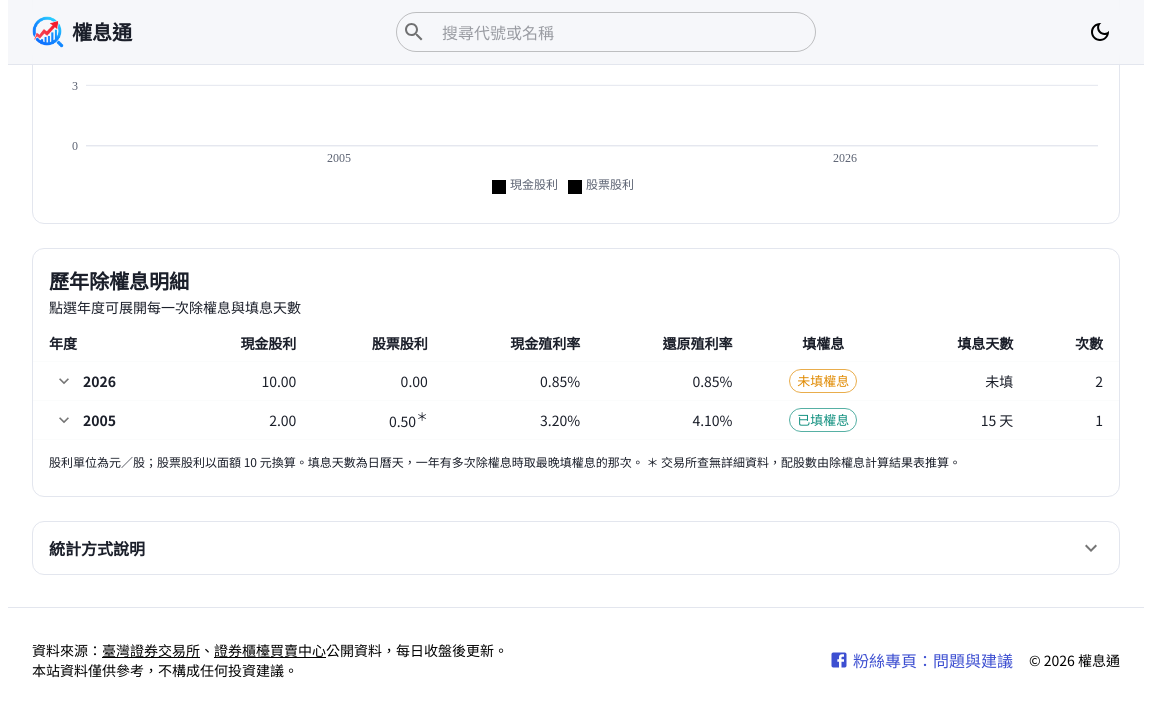
Test: StockPage › expands a year to show each ex-date
(page scrolled)
Click the button named "展開2026 年的 2 次除權息" at (64, 381), box [49,366,79,396]
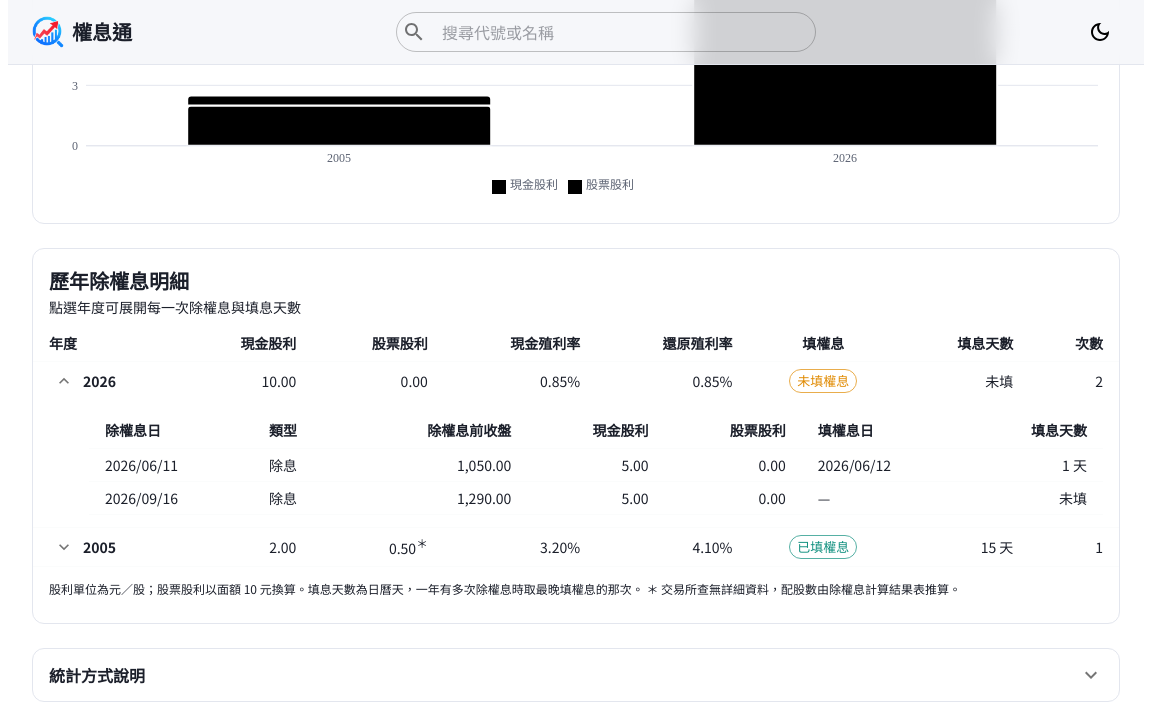
Check: the text "2026/06/11" is shown, box [89,448,253,481]
Check: the text "1 天" is shown, box [966,448,1103,481]
